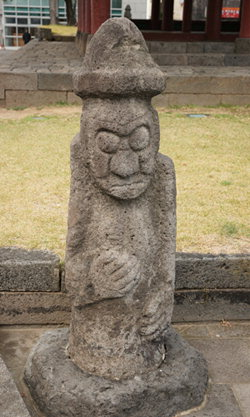Stone Statue: (31, 15, 211, 411)
